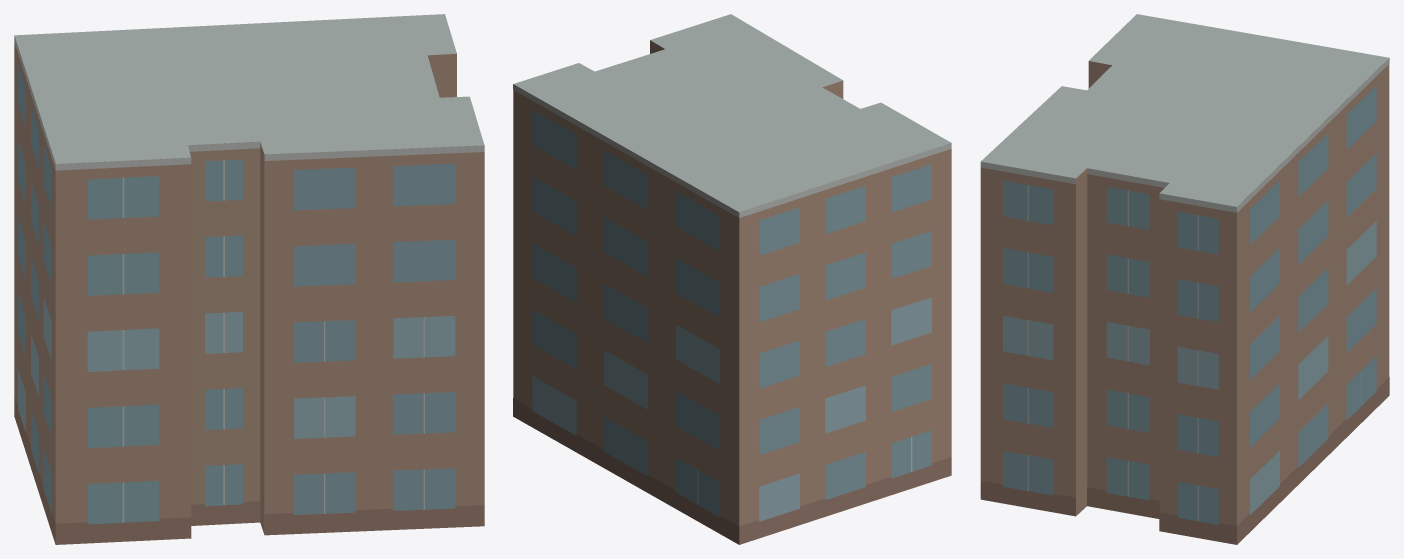
The model's file is survey-upis-32928066.glb.
The picture shows the model from 3 angles, left to right: view 1: azimuth 30°, elevation 25°; view 2: azimuth 150°, elevation 25°; view 3: azimuth 270°, elevation 25°; orthographic projection. The views are drawn at different scales.
Visible parts, largest first — view 1: survey-upis-32928066.tmp; view 2: survey-upis-32928066.tmp; view 3: survey-upis-32928066.tmp.
Part boxes in pixels (x1=…): survey-upis-32928066.tmp: x1=14, y1=14, x2=484, y2=544; survey-upis-32928066.tmp: x1=513, y1=14, x2=951, y2=544; survey-upis-32928066.tmp: x1=980, y1=14, x2=1389, y2=544.
Bounding box in the file's own units: 17.22 × 14.05 × 15.42.
